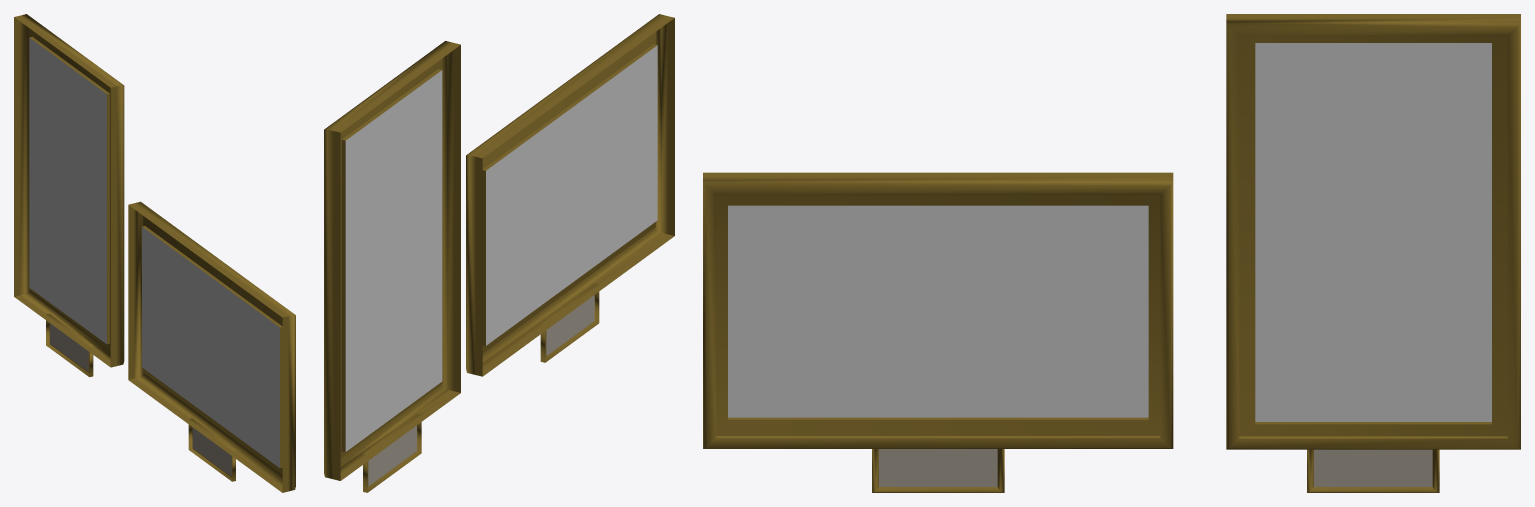
Rendered from Wood frame.fbx.
The picture shows the model from 3 angles, left to right: view 1: azimuth 30°, elevation 25°; view 2: azimuth 150°, elevation 25°; view 3: azimuth 270°, elevation 25°; orthographic projection. The views are drawn at different scales.
Parts seen in each view (by area): view 1: frame_vertic, frame_horizont, sign_below, sign_below1; view 2: frame_vertic, frame_horizont, sign_below, sign_below1; view 3: frame_horizont, frame_vertic, sign_below, sign_below1.
Boxes of the visible parts, x1=… form: frame_vertic: x1=14, y1=14, x2=124, y2=367; frame_horizont: x1=128, y1=201, x2=295, y2=492; sign_below: x1=188, y1=418, x2=235, y2=481; sign_below1: x1=46, y1=313, x2=93, y2=377; frame_vertic: x1=324, y1=41, x2=460, y2=480; frame_horizont: x1=466, y1=14, x2=674, y2=376; sign_below: x1=540, y1=283, x2=599, y2=362; sign_below1: x1=363, y1=413, x2=421, y2=492; frame_horizont: x1=703, y1=172, x2=1173, y2=448; frame_vertic: x1=1226, y1=14, x2=1520, y2=449; sign_below: x1=872, y1=449, x2=1004, y2=492; sign_below1: x1=1307, y1=449, x2=1439, y2=492.
Size of the model in its own units: 0.5655 by 11.66 by 18.29.
